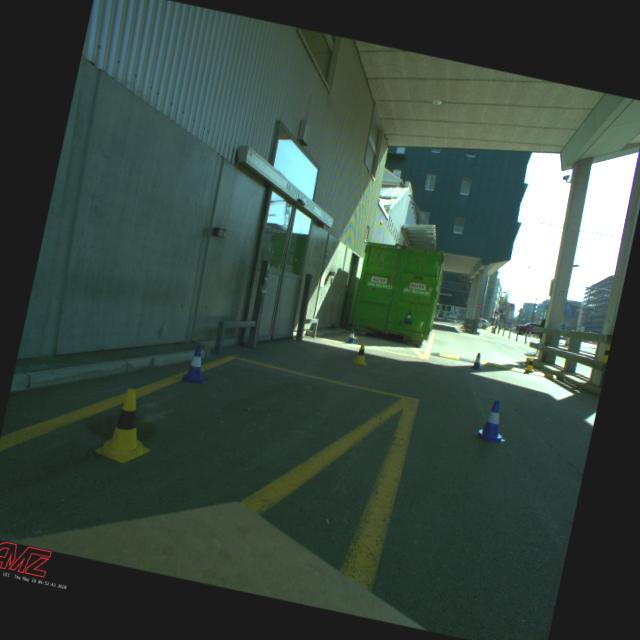blue_cone: (472, 396, 513, 444), (180, 342, 211, 384), (470, 352, 484, 369), (345, 328, 358, 344), (404, 311, 413, 324)
yellow_cone: (92, 384, 161, 468), (352, 341, 371, 366), (524, 355, 538, 372), (599, 344, 610, 363)
